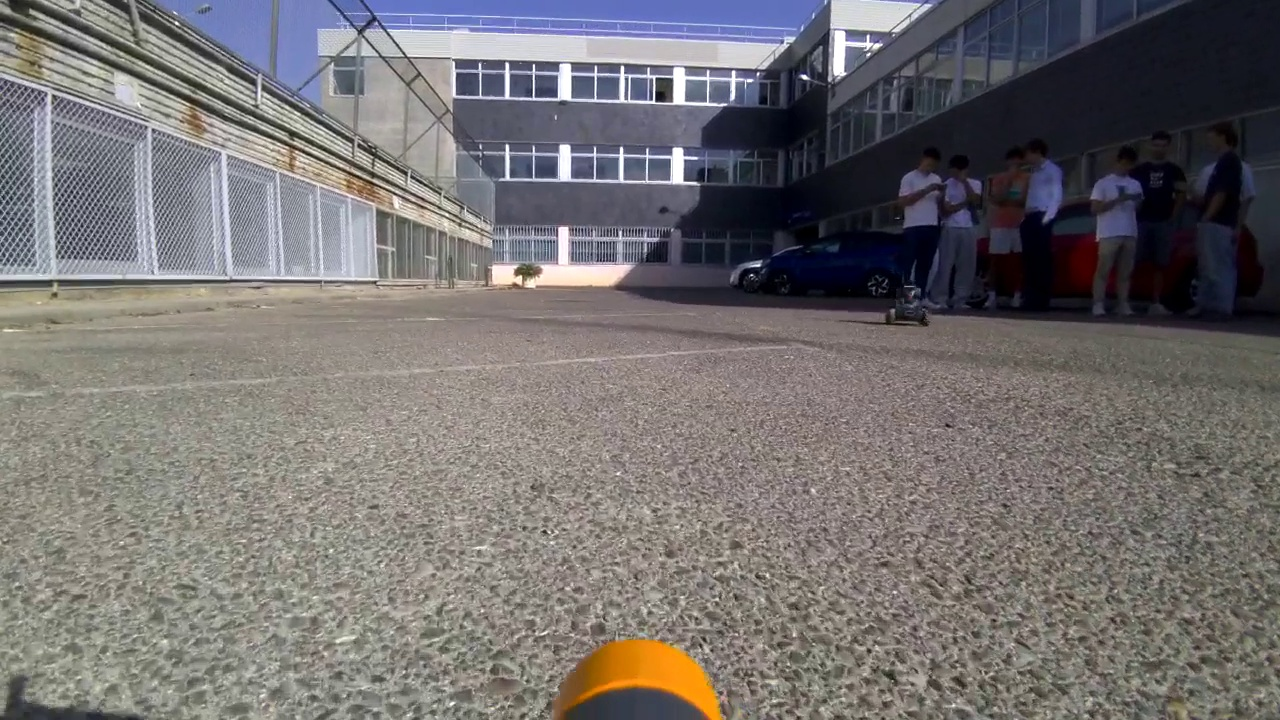robot: (876, 279, 935, 329)
